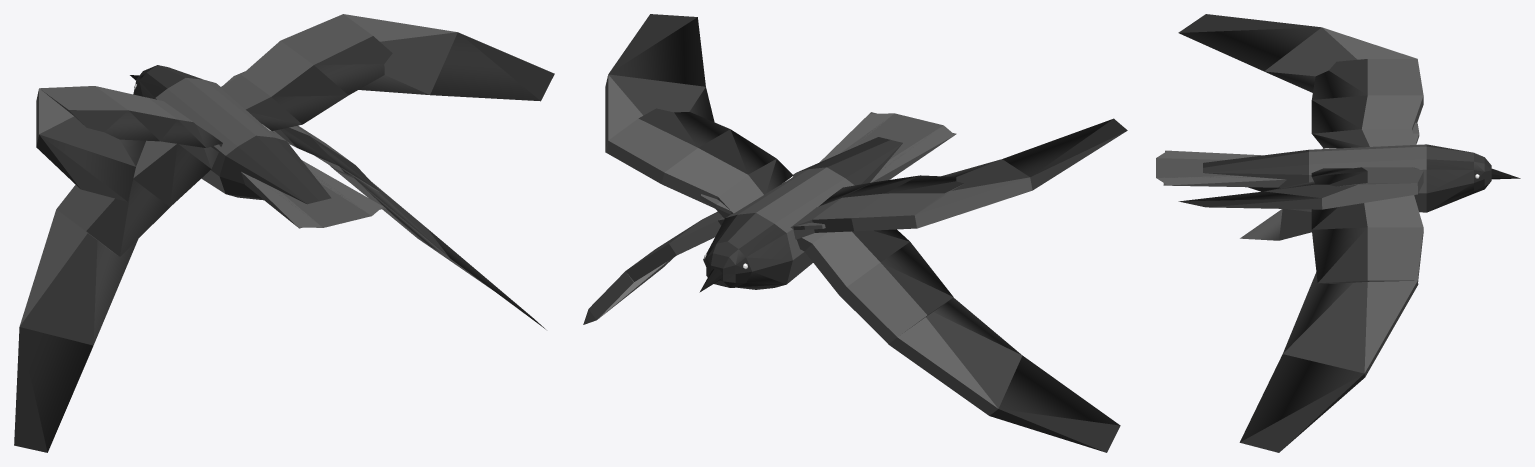
File: pigeon.gltf
3 renders of one model, left to right at view 1: azimuth 30°, elevation 25°; view 2: azimuth 150°, elevation 25°; view 3: azimuth 270°, elevation 25°, orthographic. The views are drawn at different scales.
Visible parts, largest first — view 1: flapUp, flapDown, perch; view 2: flapUp, flapDown, perch; view 3: flapUp, flapDown.
Boxes of the visible parts, x1=… form: flapUp: x1=14, y1=65, x2=545, y2=452; flapDown: x1=36, y1=14, x2=554, y2=227; perch: x1=22, y1=71, x2=385, y2=320; flapUp: x1=583, y1=113, x2=1120, y2=452; flapDown: x1=592, y1=14, x2=1127, y2=305; perch: x1=700, y1=112, x2=990, y2=403; flapUp: x1=1156, y1=144, x2=1520, y2=452; flapDown: x1=1156, y1=14, x2=1491, y2=366.
Size of the model in its own units: 0.32 by 0.1661 by 0.2326.
Materials: 4 (3 with a texture image).
